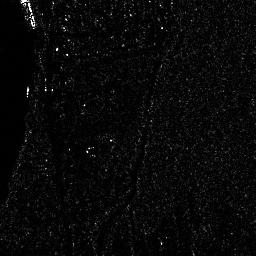ship: (18, 1, 38, 28)
